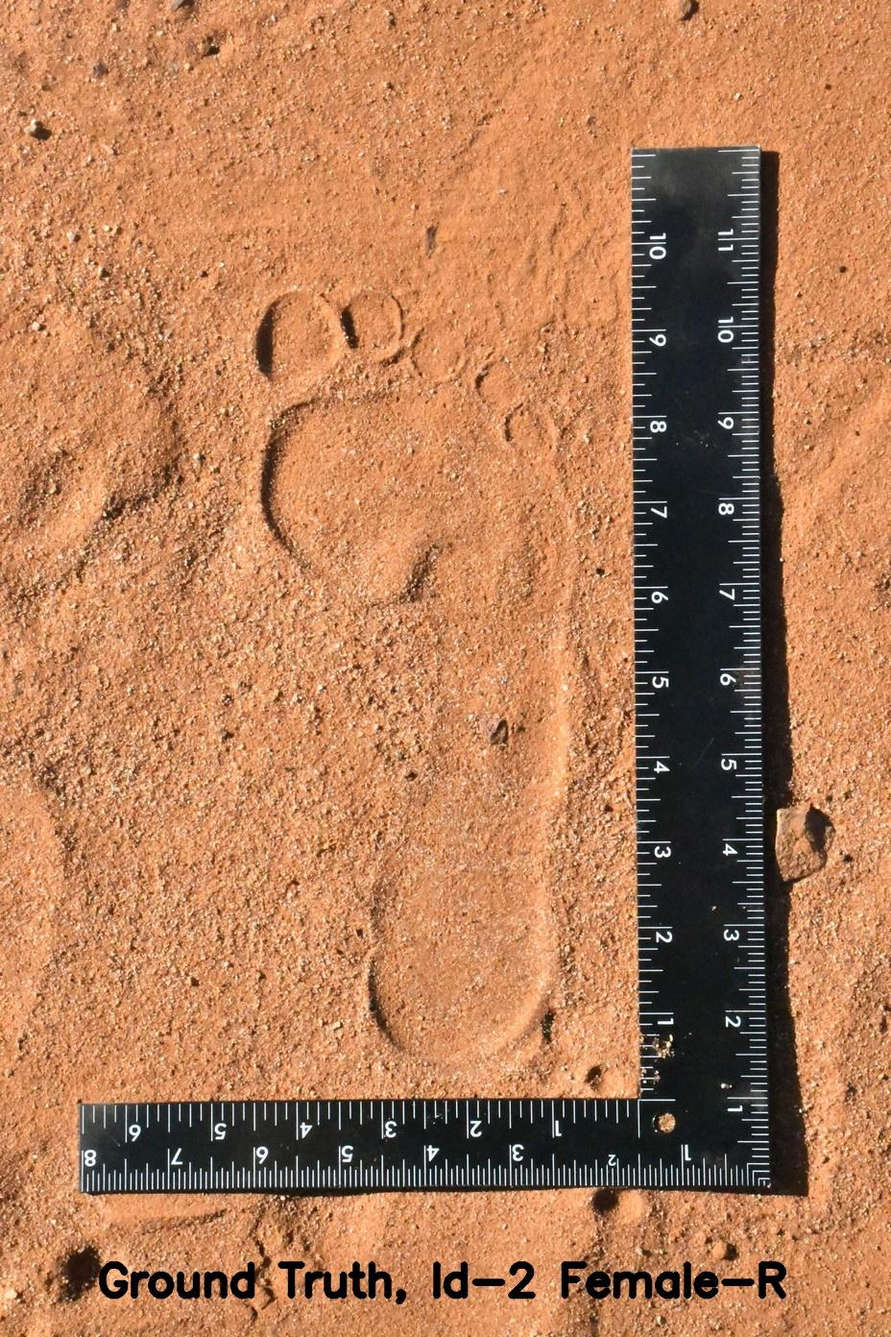human_foot_print: (218, 238, 631, 1085)
